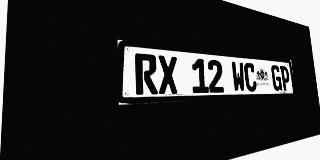1: (191, 58, 209, 93)
2: (207, 59, 224, 93)
C: (243, 63, 257, 92)
G: (271, 65, 282, 91)
P: (280, 66, 291, 91)
R: (135, 53, 158, 95)
W: (231, 61, 246, 92)
X: (157, 55, 179, 94)
